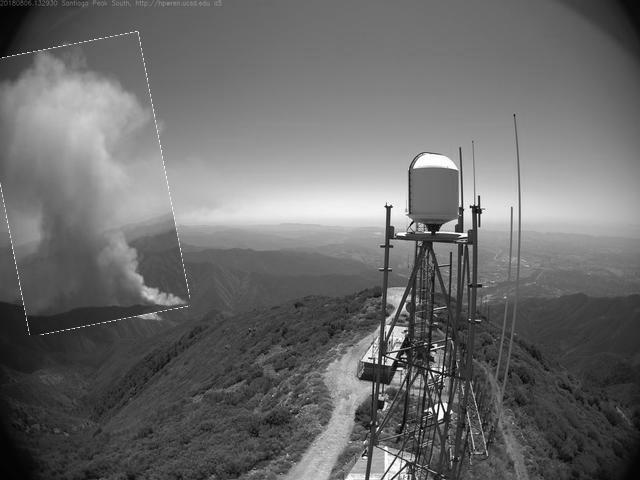smoke: (1, 38, 180, 331)
